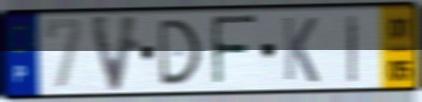7: (42, 15, 90, 94)
D: (156, 16, 204, 88)
F: (209, 13, 260, 90)
I: (345, 13, 360, 85)
K: (281, 14, 321, 85)
V: (86, 13, 143, 95)
